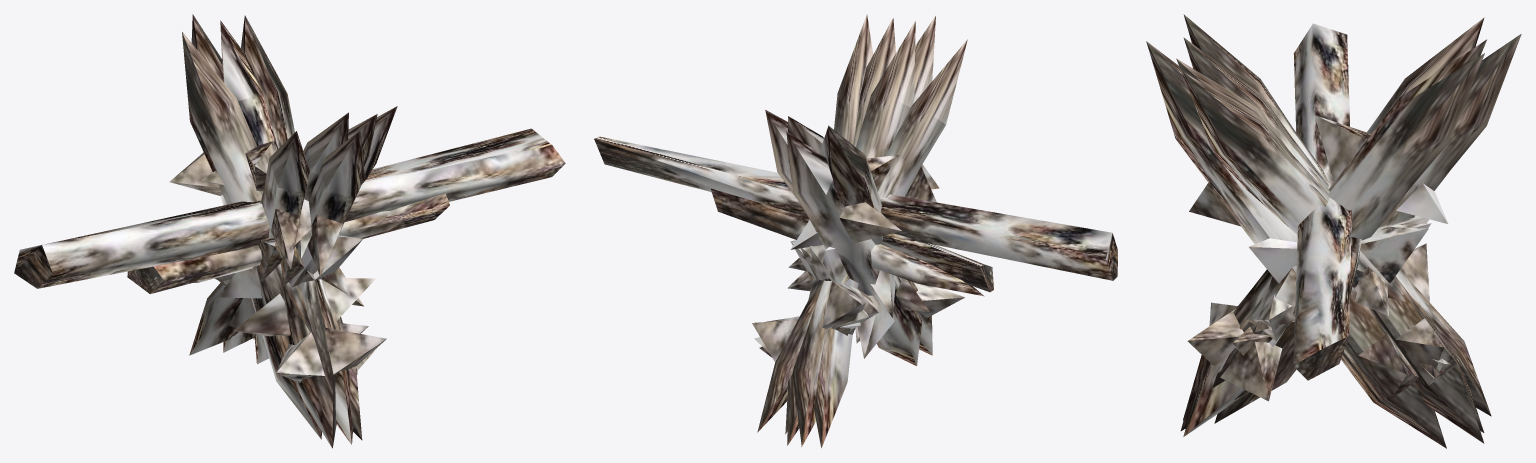
The model's file is Pdoor02.obj.
The picture shows the model from 3 angles, left to right: view 1: azimuth 30°, elevation 25°; view 2: azimuth 150°, elevation 25°; view 3: azimuth 270°, elevation 25°; orthographic projection. The views are drawn at different scales.
Parts seen in each view (by area): view 1: 10, 12, 0, 5, 4, 1, 6, 3, 13, 7, 9, 8 (+2 smaller); view 2: 12, 6, 3, 0, 2, 7, 9, 10, 11, 13, 5, 1 (+1 smaller); view 3: 1, 5, 7, 0, 8, 3, 6, 2, 10, 12, 9, 11.
Part boxes in pixels (<box>): 10: <box>182,32,375,440</box>; 12: <box>14,200,269,288</box>; 0: <box>345,128,565,221</box>; 5: <box>201,15,386,448</box>; 4: <box>220,20,362,444</box>; 1: <box>224,130,364,364</box>; 6: <box>169,14,368,439</box>; 3: <box>215,131,309,339</box>; 13: <box>127,211,401,294</box>; 7: <box>189,106,397,355</box>; 9: <box>216,112,348,352</box>; 8: <box>221,21,377,443</box>; 12: <box>880,194,1117,280</box>; 6: <box>786,131,922,365</box>; 3: <box>752,39,967,432</box>; 0: <box>594,136,807,216</box>; 2: <box>759,18,895,446</box>; 7: <box>800,14,873,448</box>; 9: <box>754,21,915,445</box>; 10: <box>790,125,964,317</box>; 11: <box>710,188,984,296</box>; 13: <box>881,233,993,292</box>; 5: <box>765,110,932,355</box>; 1: <box>766,16,939,434</box>; 1: <box>1146,41,1446,448</box>; 5: <box>1183,53,1484,420</box>; 7: <box>1183,72,1431,234</box>; 0: <box>1293,198,1351,380</box>; 8: <box>1180,39,1486,430</box>; 3: <box>1183,14,1484,443</box>; 6: <box>1214,34,1521,423</box>; 2: <box>1176,58,1491,416</box>; 10: <box>1183,17,1484,436</box>; 12: <box>1293,23,1349,188</box>; 9: <box>1183,37,1484,432</box>; 11: <box>1293,237,1361,316</box>.
Bounding box in the file's own units: 105 × 64.26 × 54.63.
